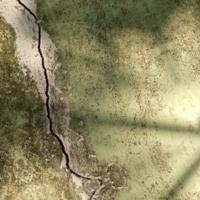crack: (0, 0, 118, 191)
